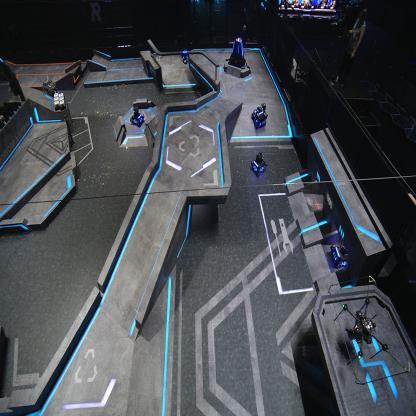car: (330, 239, 353, 270), (40, 78, 60, 110), (250, 102, 268, 130), (251, 151, 267, 177), (130, 106, 144, 127)
